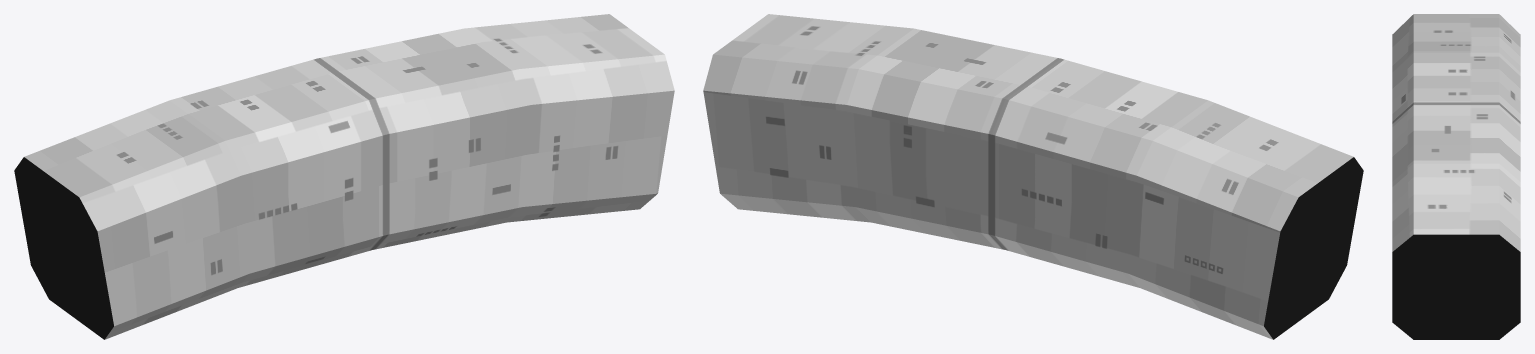
File: ring04.final.fbx
The picture shows the model from 3 angles, left to right: view 1: azimuth 30°, elevation 25°; view 2: azimuth 150°, elevation 25°; view 3: azimuth 270°, elevation 25°; orthographic projection. The views are drawn at different scales.
Parts seen in each view (by area): view 1: ring04.final; view 2: ring04.final; view 3: ring04.final.
Boxes of the visible parts, bbox=[...] form: ring04.final: bbox=[14, 14, 674, 339]; ring04.final: bbox=[703, 14, 1363, 339]; ring04.final: bbox=[1392, 14, 1520, 339].
Bounding box in the file's own units: 3037 × 869 × 748.
1 material, 1 textured.
